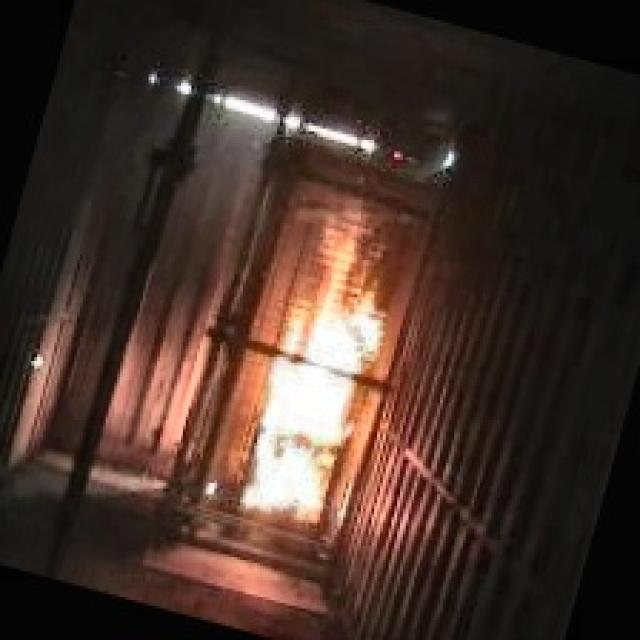fire: (212, 261, 408, 536)
